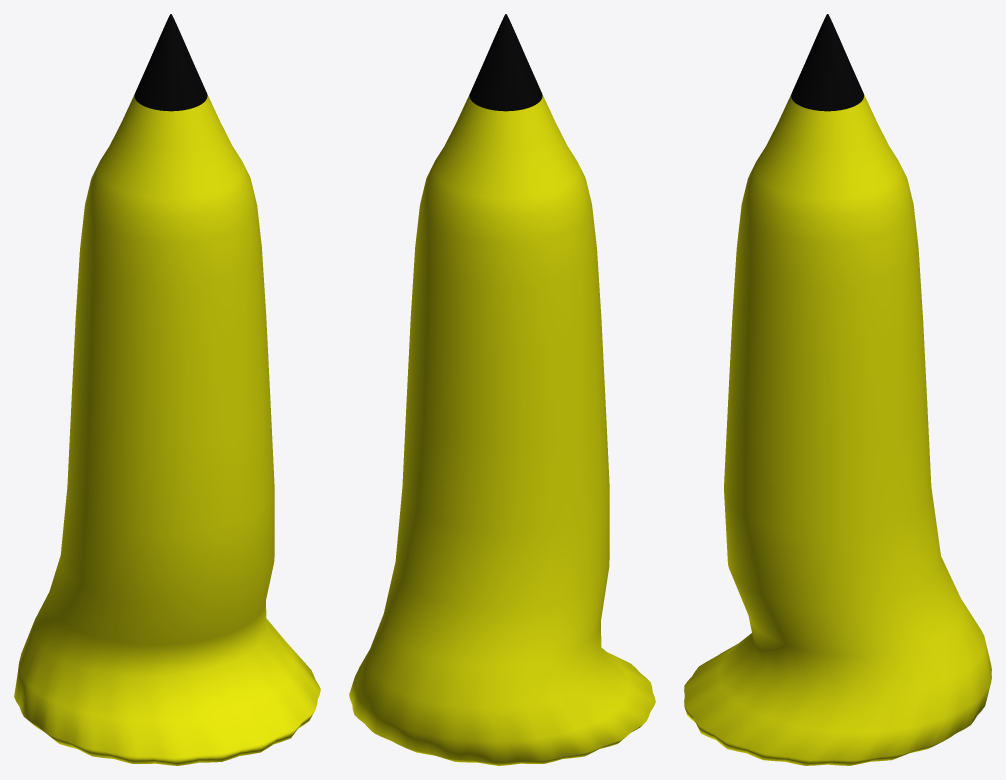
The model's file is sarı.fbx.
The picture shows the model from 3 angles, left to right: view 1: azimuth 30°, elevation 25°; view 2: azimuth 150°, elevation 25°; view 3: azimuth 270°, elevation 25°; orthographic projection.
Parts seen in each view (by area): view 1: pCylinder1; view 2: pCylinder1; view 3: pCylinder1.
Boxes of the visible parts, x1=… form: pCylinder1: x1=14, y1=14, x2=320, y2=765; pCylinder1: x1=349, y1=14, x2=655, y2=765; pCylinder1: x1=684, y1=14, x2=991, y2=765.
Size of the model in its own units: 4.1 by 10.33 by 4.14.
